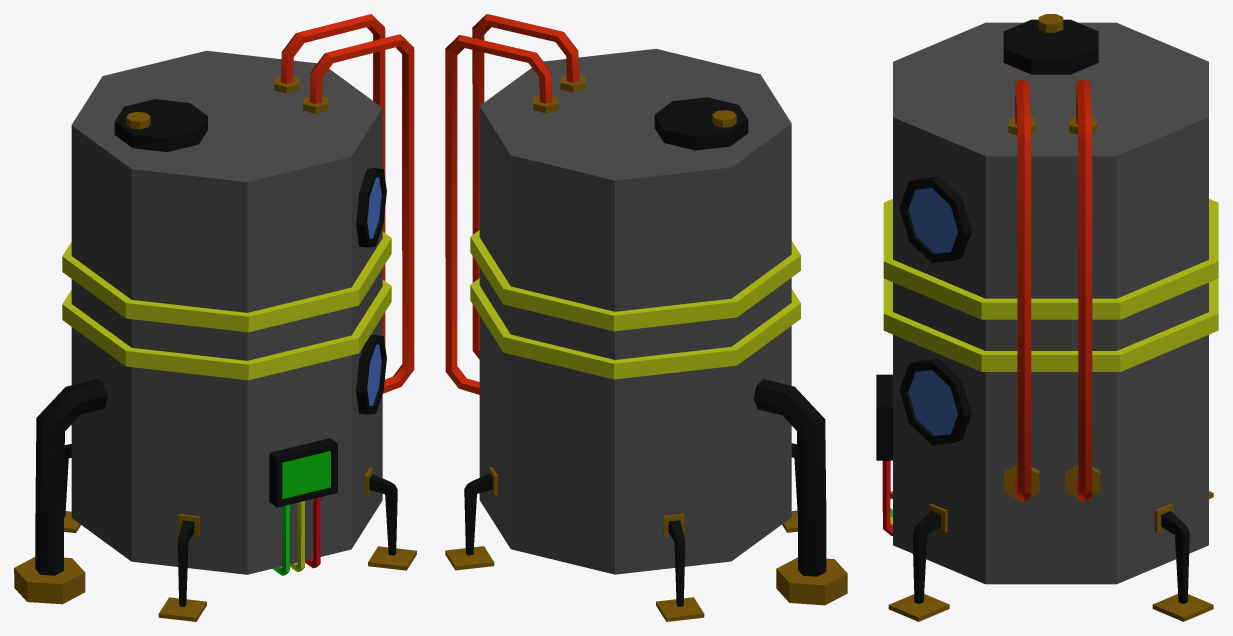
Rendered from maquina1.fbx.
3 renders of one model, left to right at view 1: azimuth 30°, elevation 25°; view 2: azimuth 150°, elevation 25°; view 3: azimuth 270°, elevation 25°, orthographic. The views are drawn at different scales.
Parts seen in each view (by area): view 1: machine_1; view 2: machine_1; view 3: machine_1.
Part boxes in pixels (x1=…): machine_1: x1=14, y1=14, x2=416, y2=621; machine_1: x1=445, y1=14, x2=847, y2=621; machine_1: x1=876, y1=14, x2=1218, y2=621.
Bounding box in the file's own units: 552 × 670 × 394.
